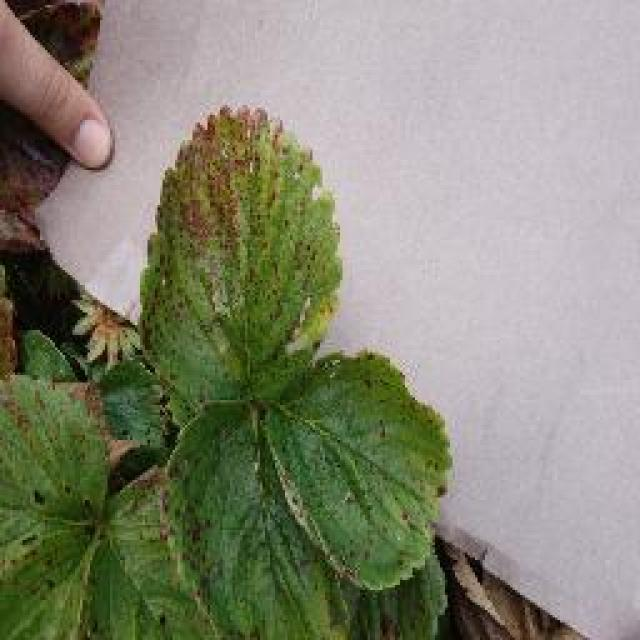Strawberry leaf scorch: (186, 142, 306, 313)
